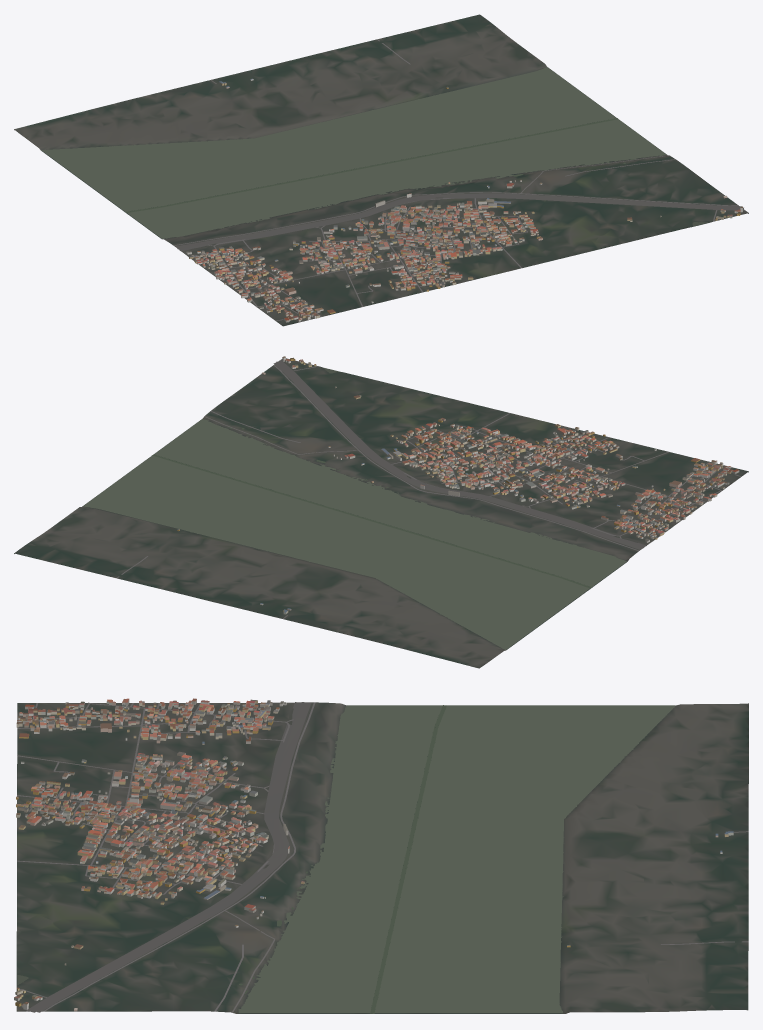
3 views of the same model, one above another, from view 1: azimuth 30°, elevation 25°; view 2: azimuth 150°, elevation 25°; view 3: azimuth 270°, elevation 25° (orthographic). The views are drawn at different scales.
Visible parts, largest first — view 1: ground, water, buildings, roads; view 2: ground, water, buildings, roads; view 3: ground, water, buildings, roads.
Part boxes in pixels (x1=…): ground: x1=14, y1=14, x2=748, y2=326; water: x1=41, y1=67, x2=708, y2=238; buildings: x1=186, y1=78, x2=742, y2=322; roads: x1=173, y1=39, x2=745, y2=320; ground: x1=14, y1=358, x2=748, y2=668; water: x1=83, y1=367, x2=626, y2=649; buildings: x1=177, y1=356, x2=739, y2=614; roads: x1=116, y1=360, x2=741, y2=618; ground: x1=16, y1=702, x2=748, y2=1013; water: x1=17, y1=705, x2=675, y2=1013; buildings: x1=14, y1=698, x2=733, y2=1011; roads: x1=17, y1=702, x2=748, y2=1012.
Size of the model in its own units: 1411 by 20.68 by 1408.
